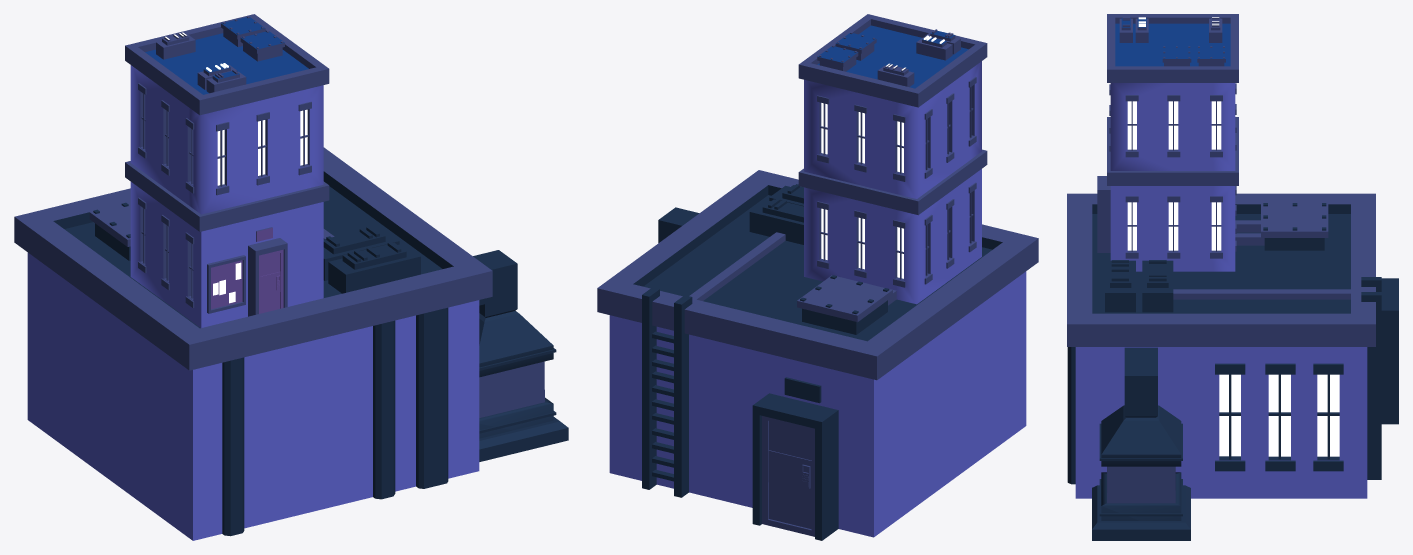
3 views of the same model, side by side, from view 1: azimuth 30°, elevation 25°; view 2: azimuth 150°, elevation 25°; view 3: azimuth 270°, elevation 25° (orthographic). The views are drawn at different scales.
Parts seen in each view (by area): view 1: Building 02.011; view 2: Building 02.011; view 3: Building 02.011.
Boxes of the visible parts, box(x1,y1,x2,y2) form: Building 02.011: box(14, 14, 568, 540); Building 02.011: box(597, 14, 1038, 540); Building 02.011: box(1067, 14, 1398, 540).
Size of the model in its own units: 10.36 by 10.87 by 8.59.
